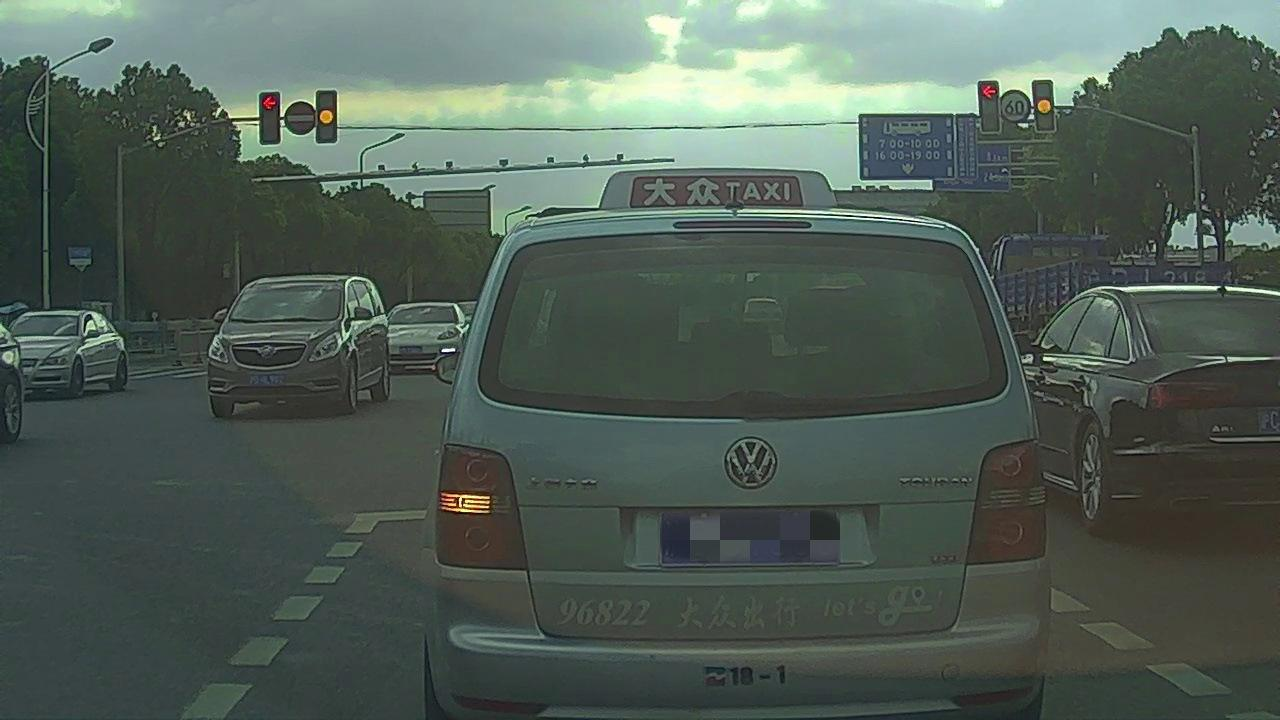traffic_light: (258, 92, 283, 144), (1032, 82, 1056, 129), (981, 79, 1001, 133), (319, 90, 338, 140)
